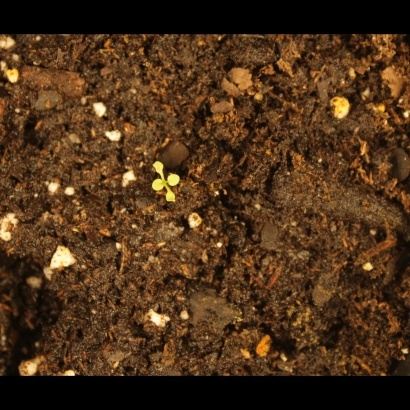leaf: (160, 190, 183, 213), (168, 170, 191, 193), (147, 152, 170, 175), (143, 174, 166, 197)
